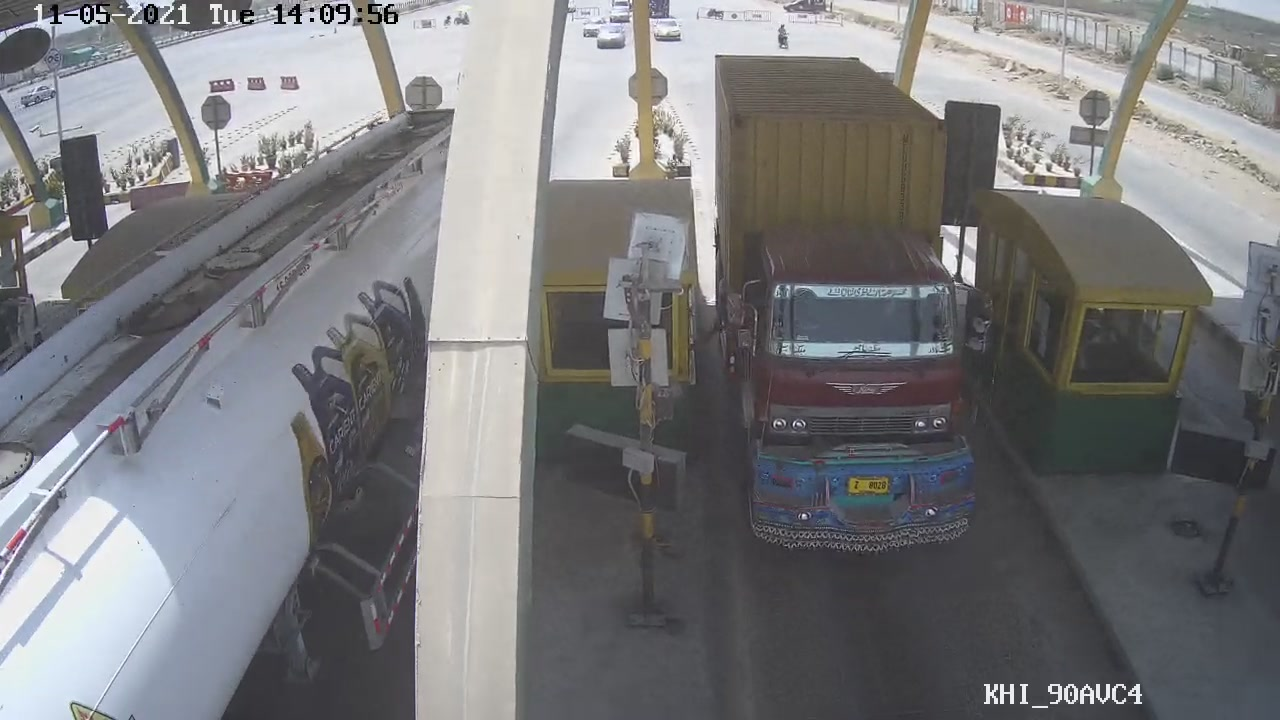F6: (704, 45, 985, 559)
